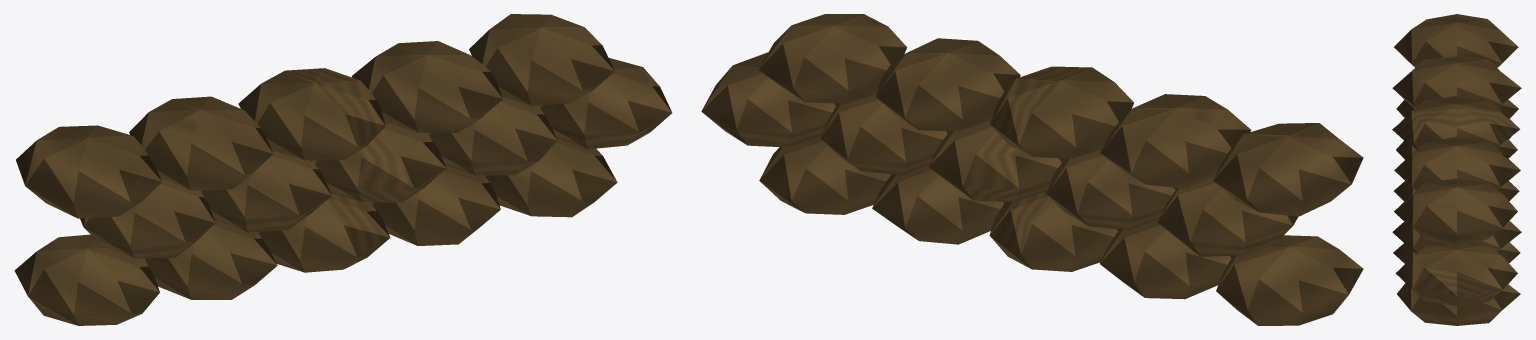
The model's file is prop_sandbag_wall_a.glb.
The picture shows the model from 3 angles, left to right: view 1: azimuth 30°, elevation 25°; view 2: azimuth 150°, elevation 25°; view 3: azimuth 270°, elevation 25°; orthographic projection. The views are drawn at different scales.
Visible parts, largest first — view 1: prop_sandbag_wall_a; view 2: prop_sandbag_wall_a; view 3: prop_sandbag_wall_a.
Boxes of the visible parts, x1,y1,x2,y2 form: prop_sandbag_wall_a: [14, 14, 672, 325]; prop_sandbag_wall_a: [701, 14, 1363, 325]; prop_sandbag_wall_a: [1392, 14, 1521, 325].
Bounding box in the file's own units: 3.47 × 0.9332 × 0.8278.
1 material, 1 textured.
